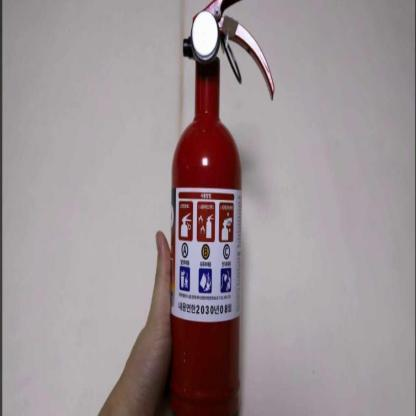Fire Extinguisher: (161, 4, 293, 416)
